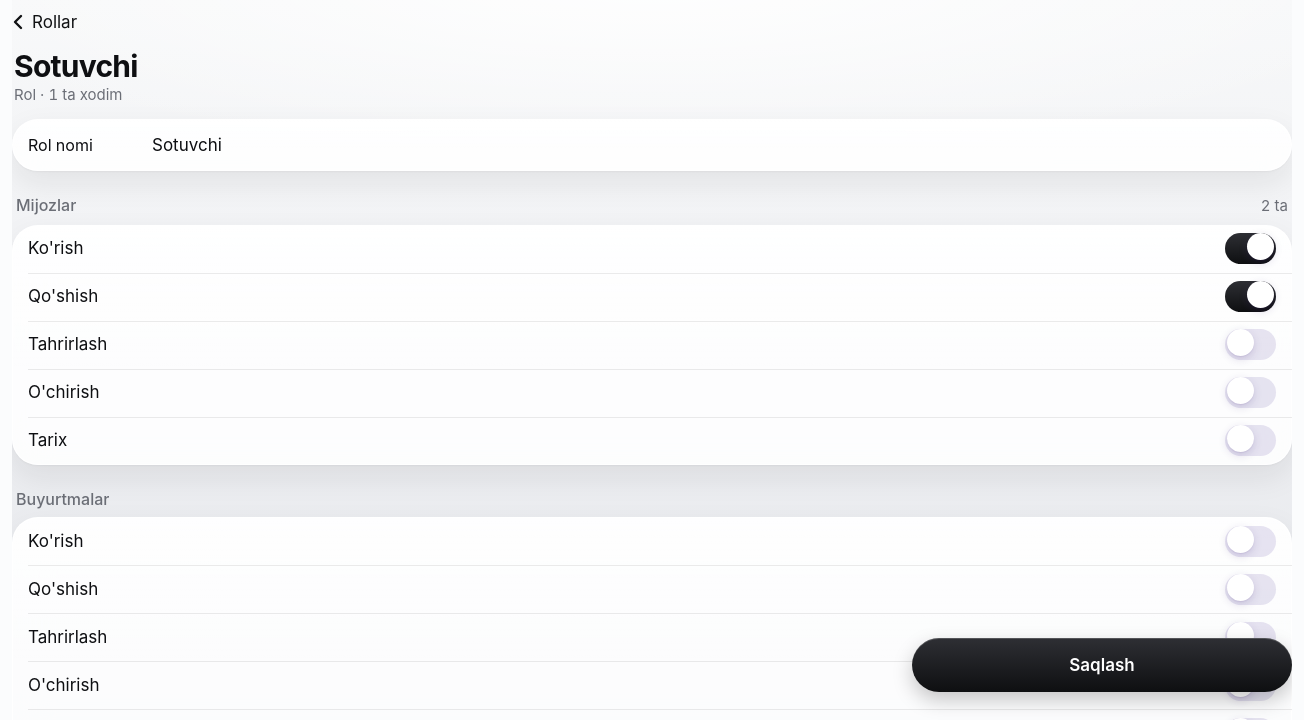
Test: a role's page opens with its name and permissions; saving replaces them and the roles open
The image size is (1304, 720).
Expected: the heading "Sotuvchi" is shown, [14,50,138,83]
Expected: the text "Rol · 1 ta xodim" is shown, [14,85,138,105]
Replace the text in the field labelled "Rol nomi" with "Katta sotuvchi" at point(714, 145), box [152,123,1276,167]
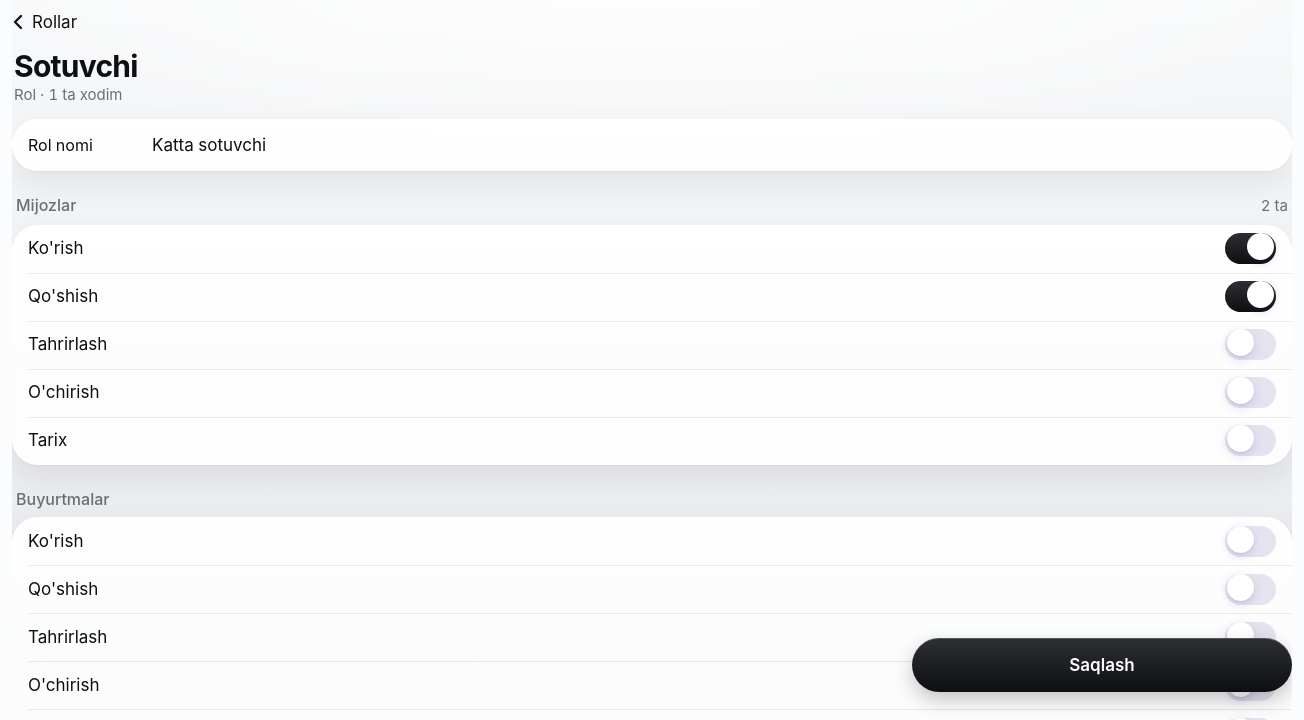
Click the 6th switch named "Ko'rish".
click(1250, 541)  # box [1225,526,1276,557]
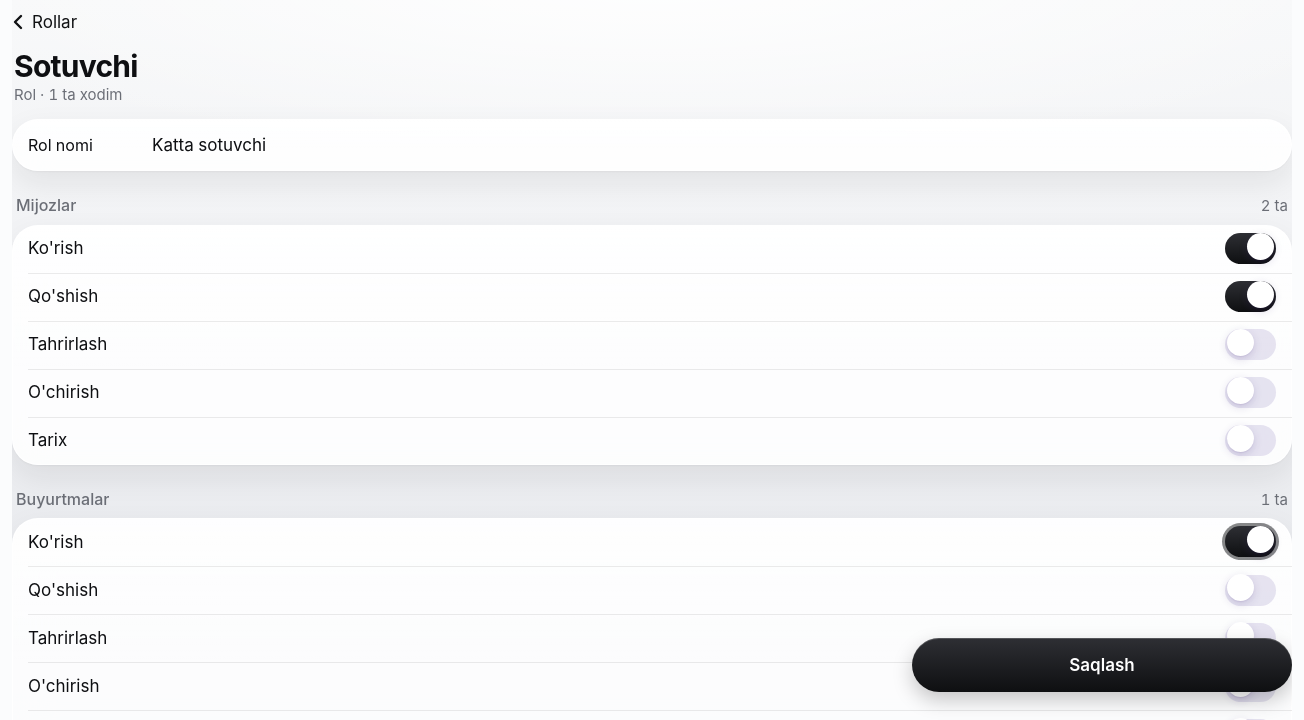
Click the button "Saqlash".
click(1102, 665)  # box [912,638,1292,692]
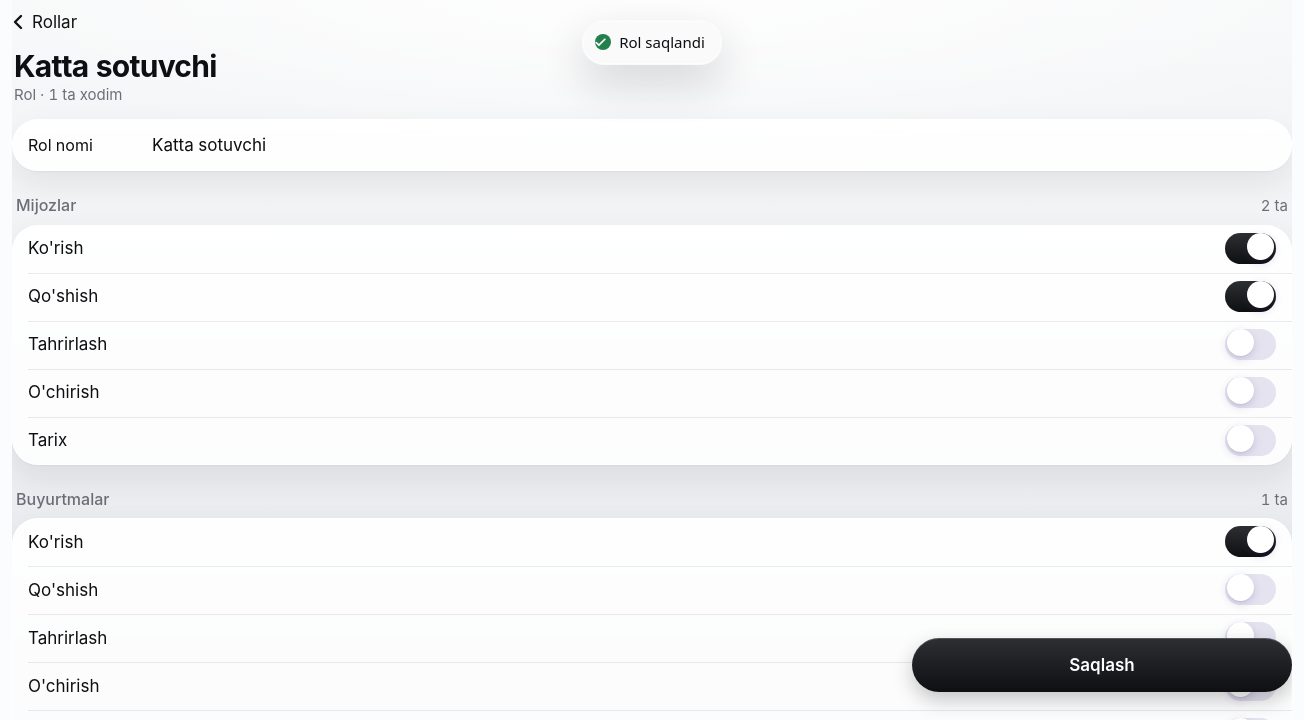
Now the text "Rol saqlandi" is shown, box [619,31,705,54]
